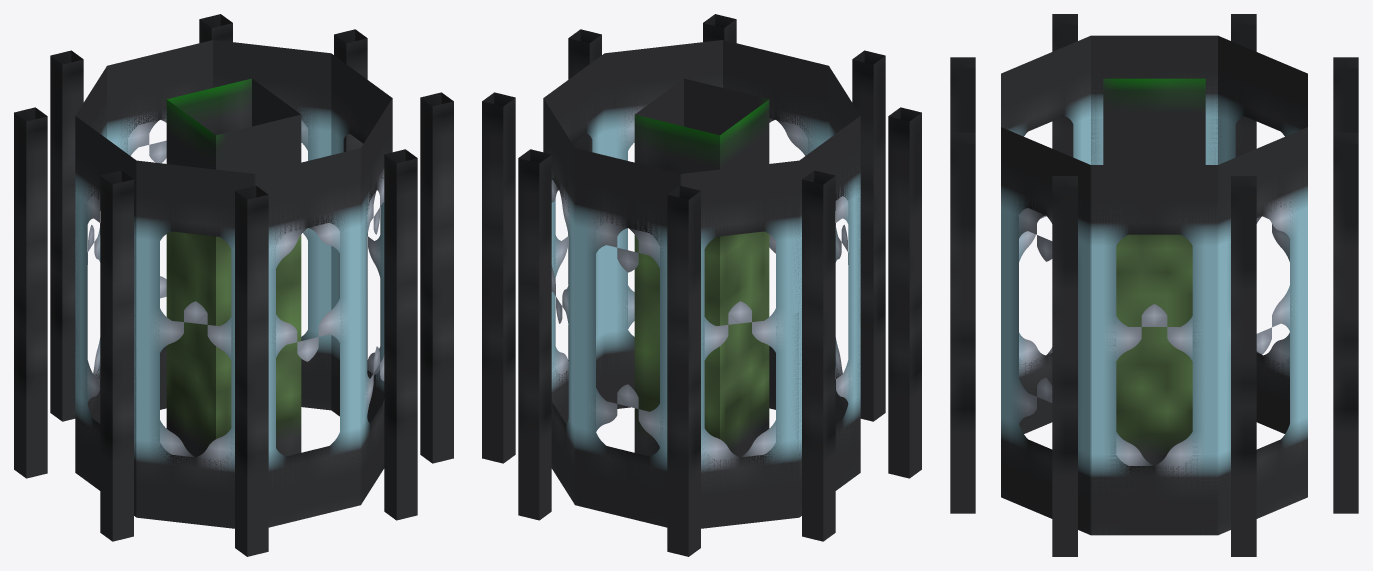
Rendered from reactor_cell_center.obj.
3 views of the same model, side by side, from view 1: azimuth 30°, elevation 25°; view 2: azimuth 150°, elevation 25°; view 3: azimuth 270°, elevation 25° (orthographic). The views are drawn at different scales.
Visible parts, largest first — view 1: cube, fuel_rod; view 2: cube, fuel_rod; view 3: cube, fuel_rod.
Part boxes in pixels (x1,y1,x2,y2): cube: (14, 14, 453, 556); fuel_rod: (166, 78, 301, 457); cube: (482, 14, 921, 556); fuel_rod: (634, 78, 769, 457); cube: (950, 14, 1358, 556); fuel_rod: (1103, 78, 1205, 465).
Bounding box in the file's own units: 16 × 16 × 16.
